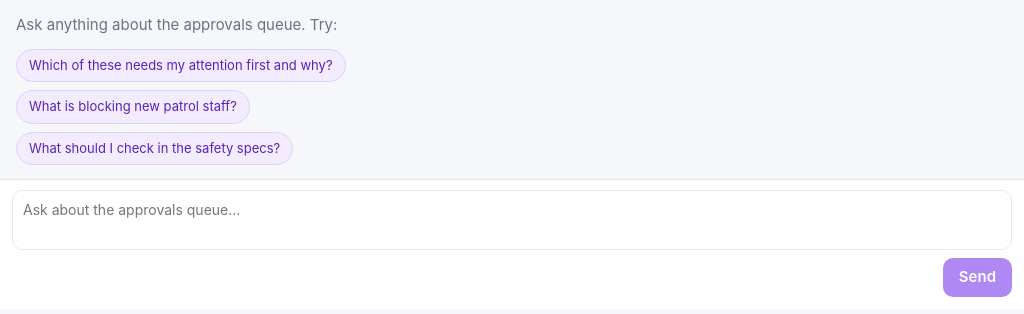
Test: TalkView › keeps a reply that was cut short, with a note
The image size is (1024, 314).
Step 1. Type "Hi" into the text box named "message" → (512, 220), box [12,190,1012,250]
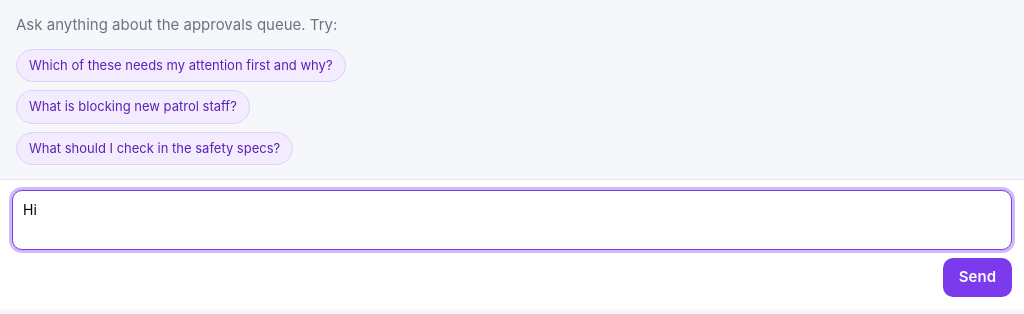
Step 2. Press Enter
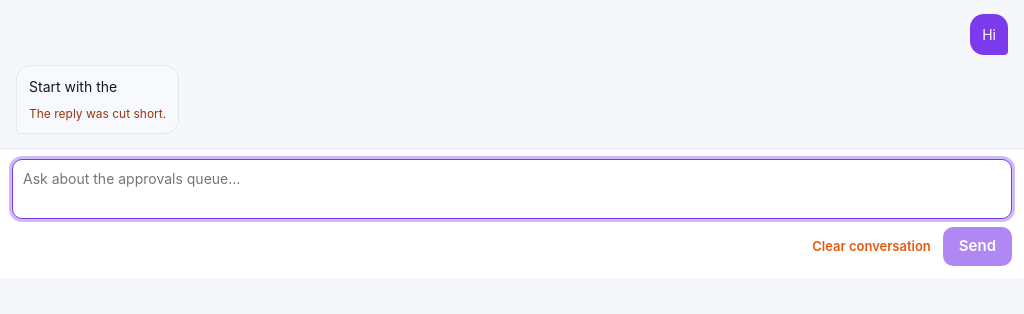
Now the text "Start with the" is shown, box [29,78,117,95]
Now the text "The reply was cut short." is shown, box [29,105,166,123]
